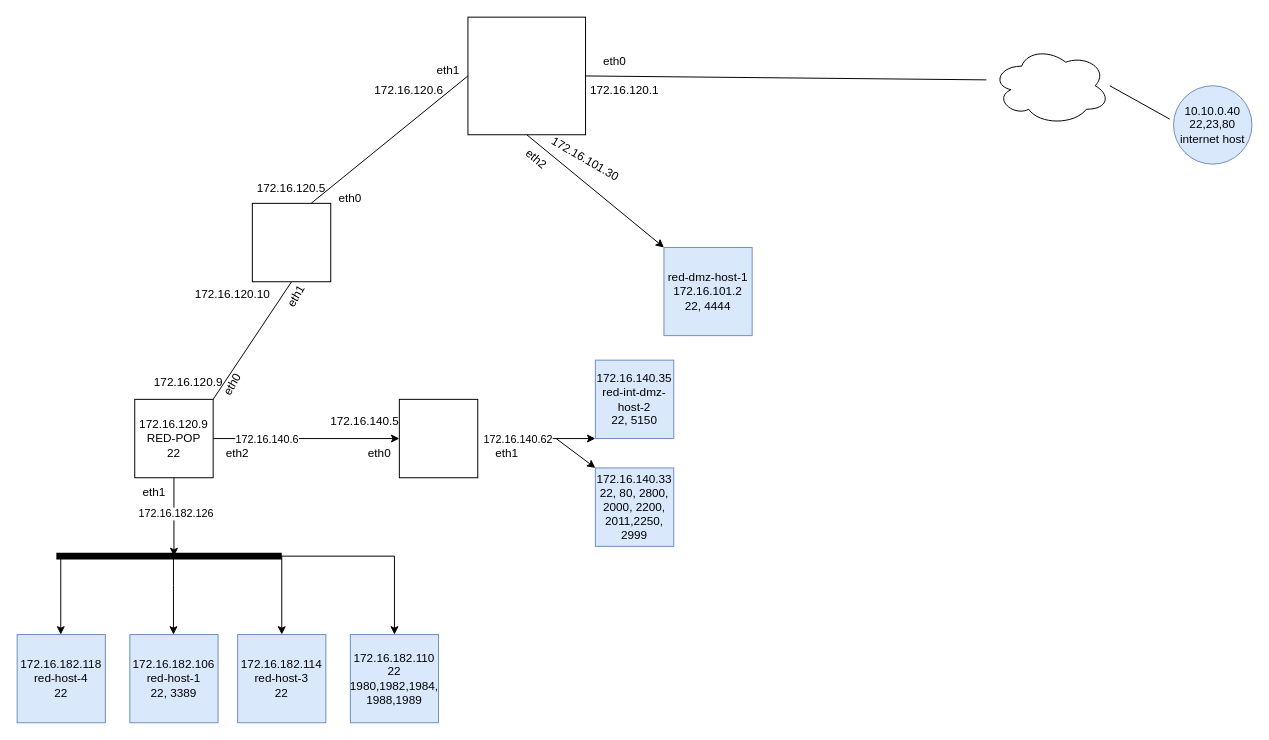
Some shapes in this 1269 by 740 pixel diagram are drawn without their labels. Each missing label, with the centre of its shape:
172.16.101.2 internet: point (1050, 85)
172.16.120.1 RED-SRC 22, 179: point (526, 75)
172.16.120.5 RED-IPS 22: point (291, 242)
172.16.140.5 RED-POP-2 22: point (438, 438)
